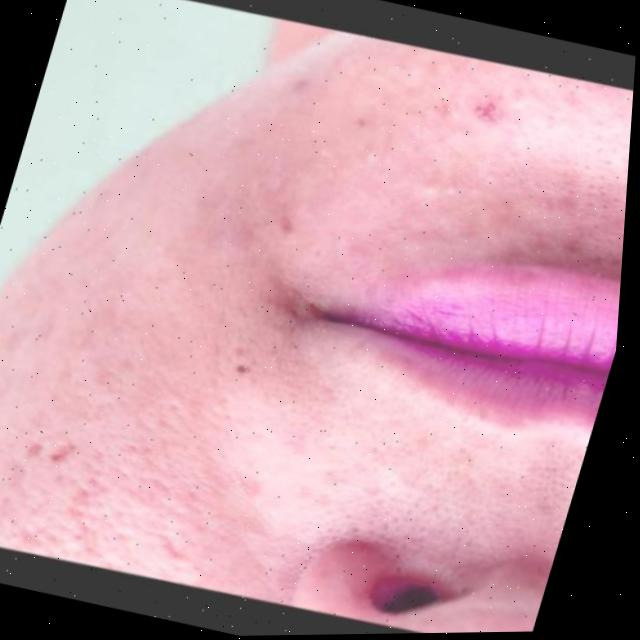Acne: (0, 307, 352, 604)
